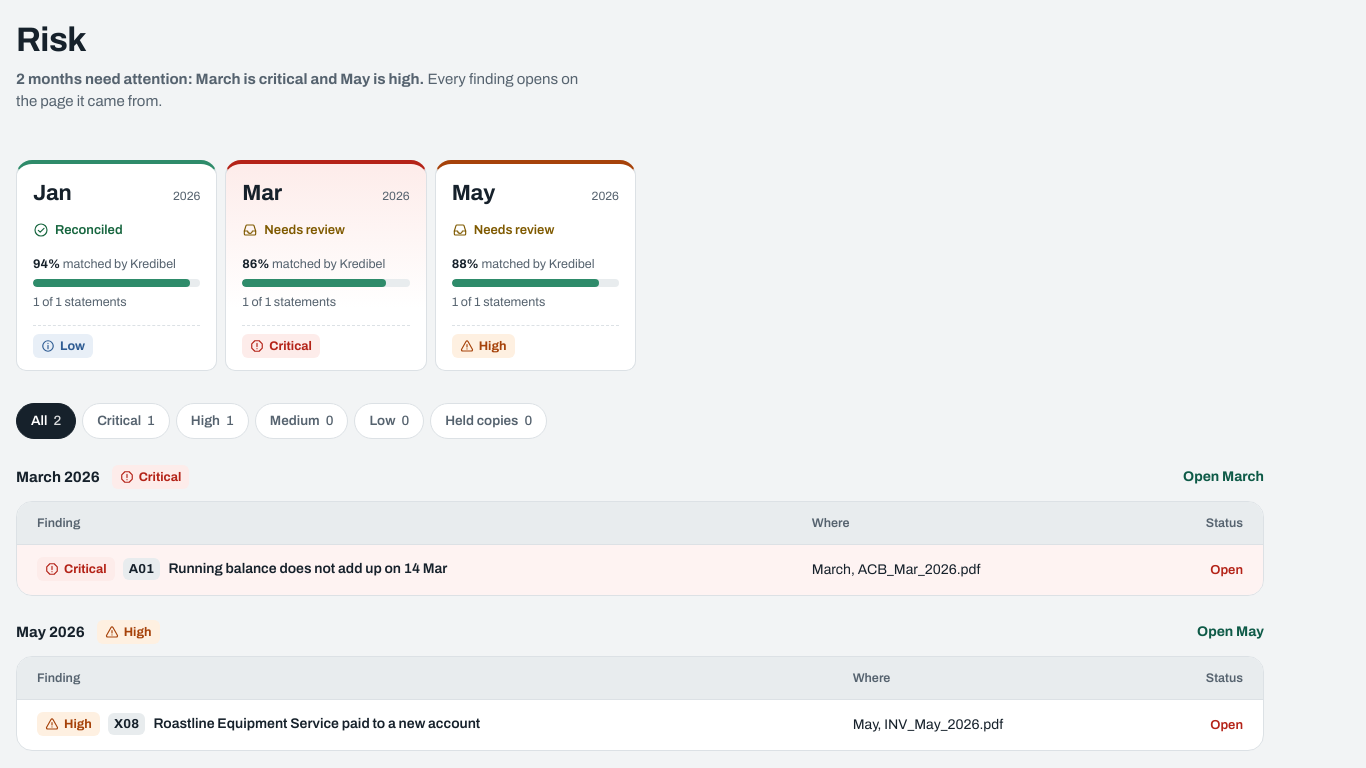
Test: RiskPage (AC-008-7, AC-008-8, AC-008-9, AC-008-10) › filters findings by severity chips (AC-008-7)
Expected: the text "Running balance does not add up on 14 Mar" is shown, [168,558,448,580]
// Click Critical filter chip within chips group
What coordinates should you click on to do the following:
click the button "Critical 1"
I would click on:
 (126, 421)
Its box is [82,403,170,439].
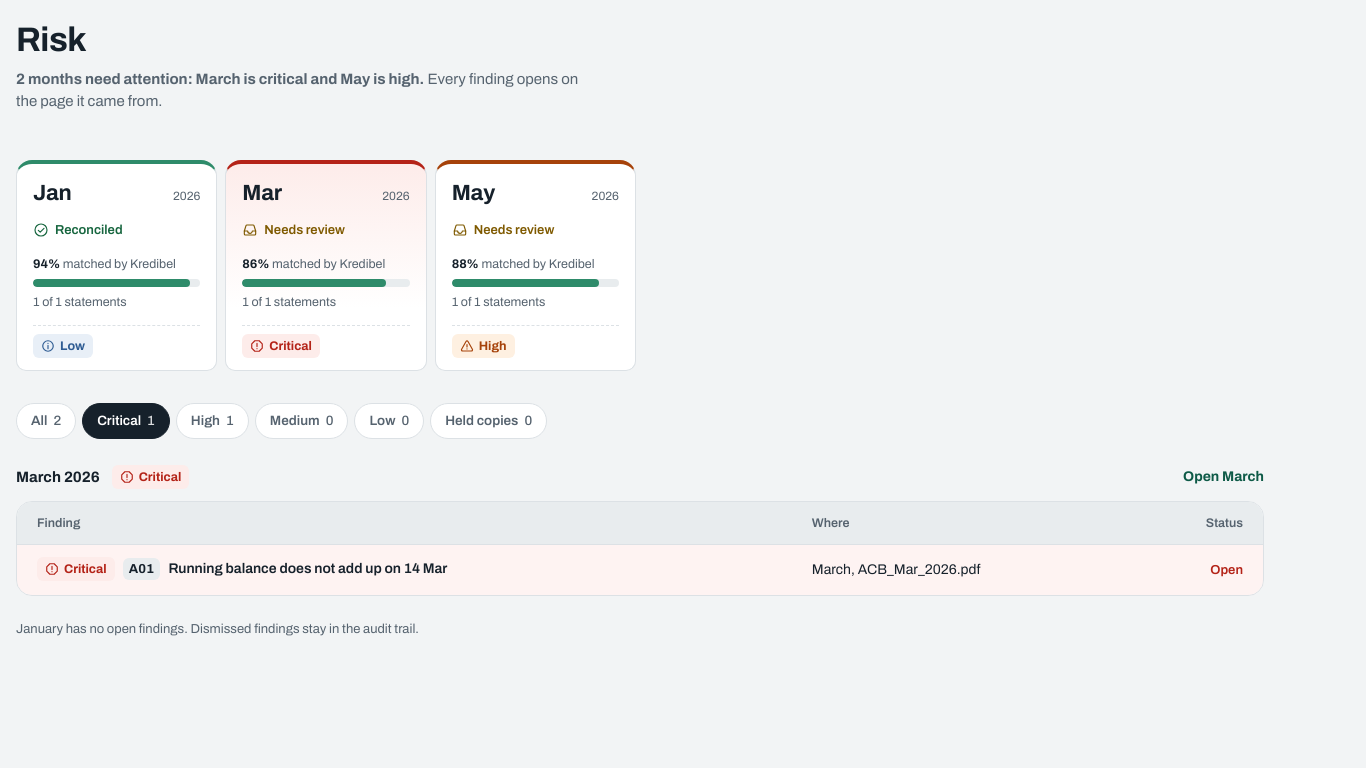
Expected: the text "Running balance does not add up on 14 Mar" is shown, [168,558,448,580]
Result: the link "Roastline Equipment Service paid to a new account" is gone
